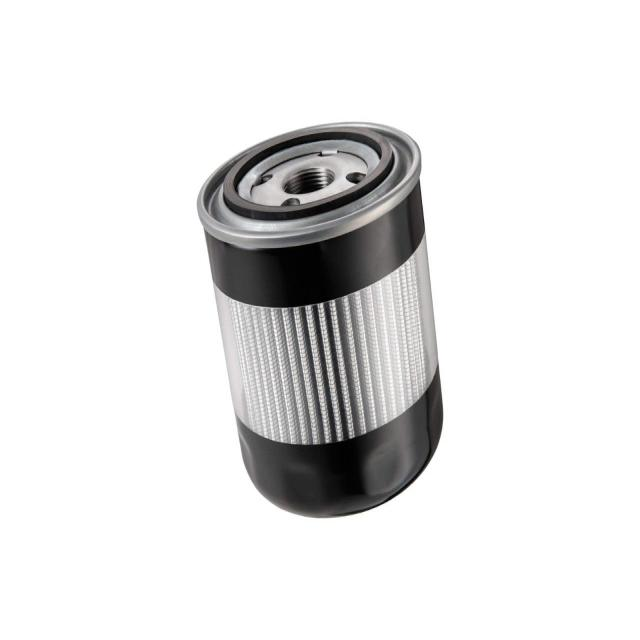oil_filter: (193, 105, 448, 528)
